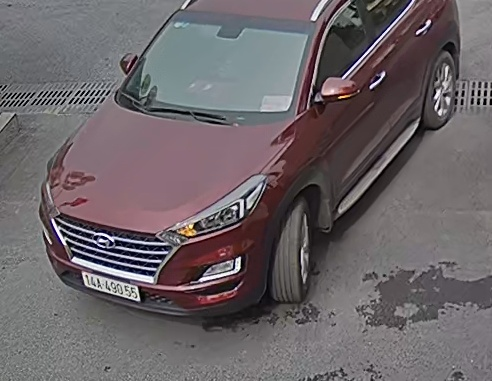vehicle plate: (76, 268, 143, 305)
